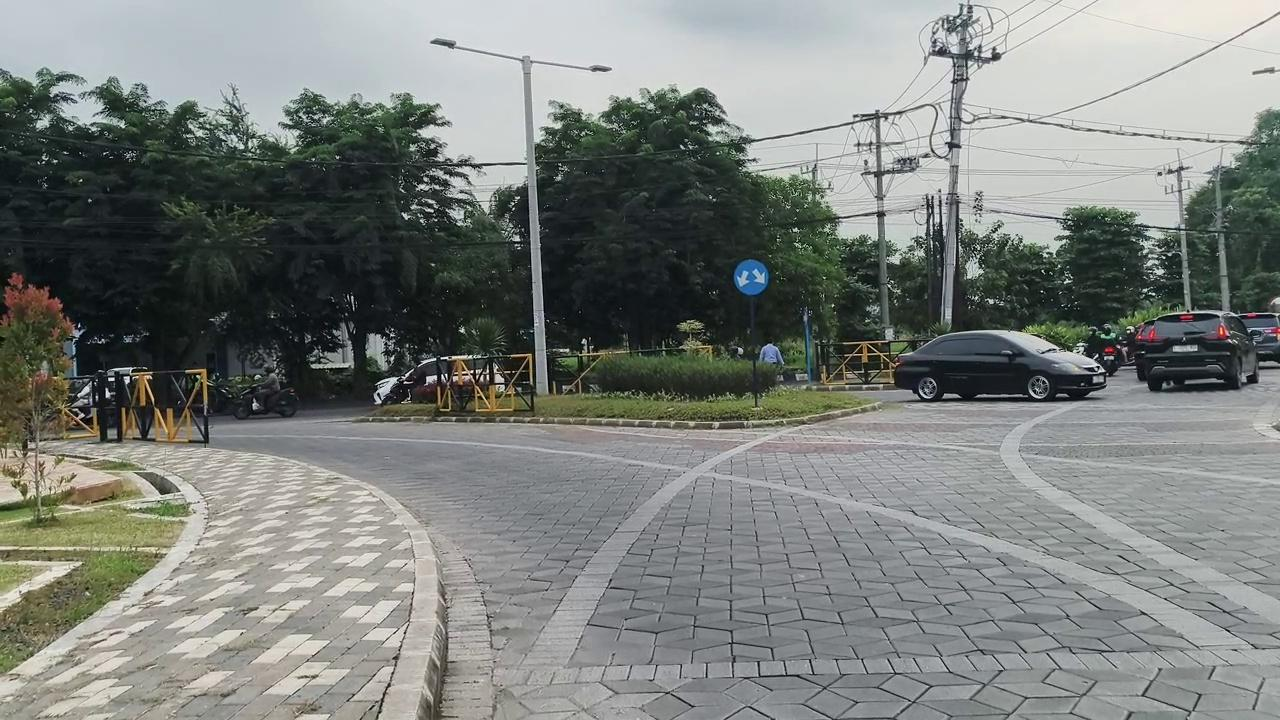Helmet: (254, 365, 280, 409), (1098, 324, 1118, 354), (1085, 326, 1102, 358)
Motor: (233, 387, 298, 419), (207, 377, 237, 414), (1095, 343, 1120, 375)
